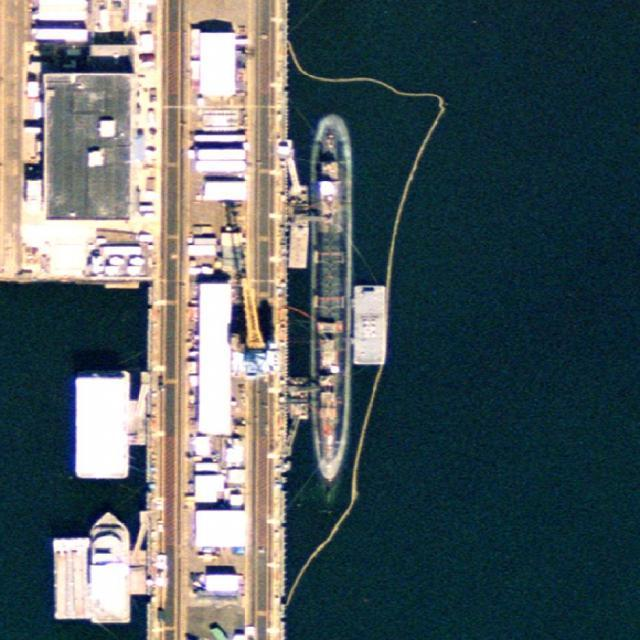Other Ship: (89, 512, 129, 626)
Submarine: (309, 110, 351, 480)
